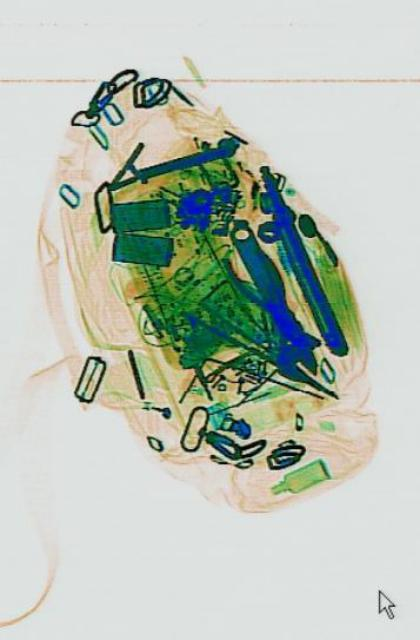Pliers: (216, 222, 329, 392), (178, 290, 341, 406)
Wrench: (214, 204, 327, 393)
